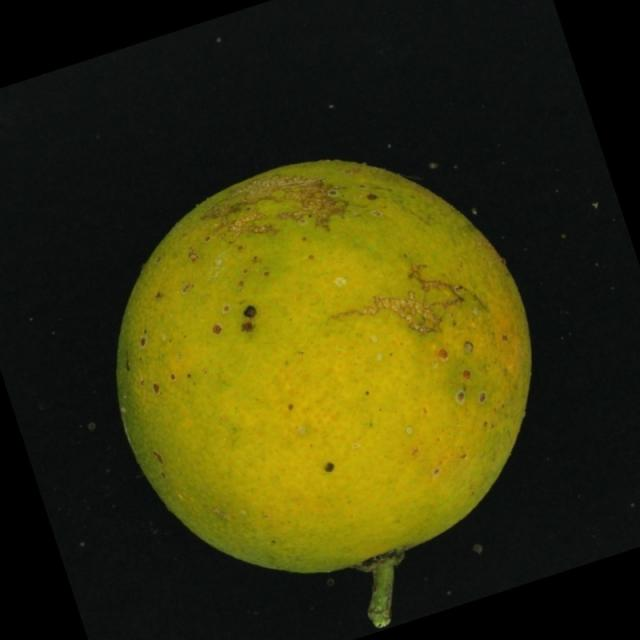grenning: (90, 120, 569, 636)
